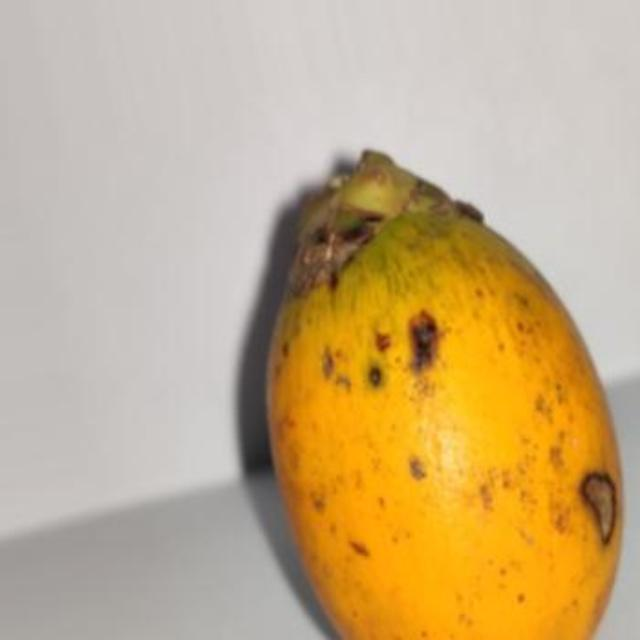good: (263, 152, 627, 638)
